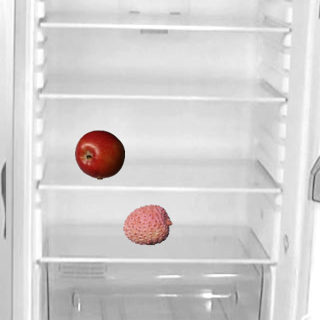Apple Braeburn: (74, 129, 124, 179)
Lychee: (122, 199, 172, 249)
